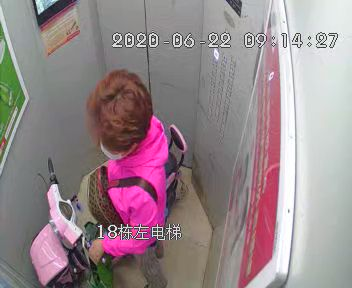Electric-bicycle: (33, 122, 182, 277)
